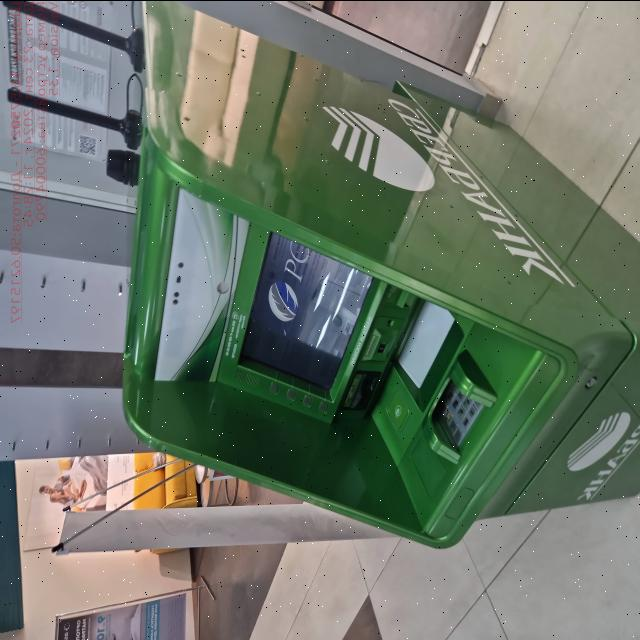bank: (113, 0, 640, 550)
